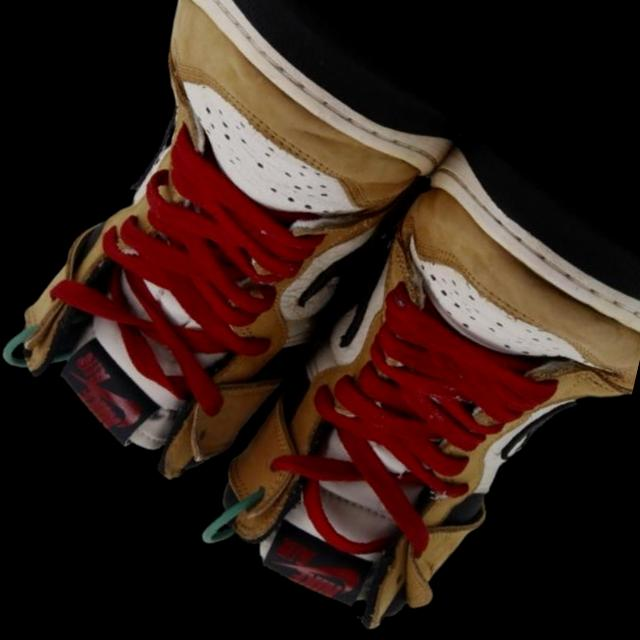nike_original_jordan: (147, 65, 640, 640), (0, 0, 502, 553)
